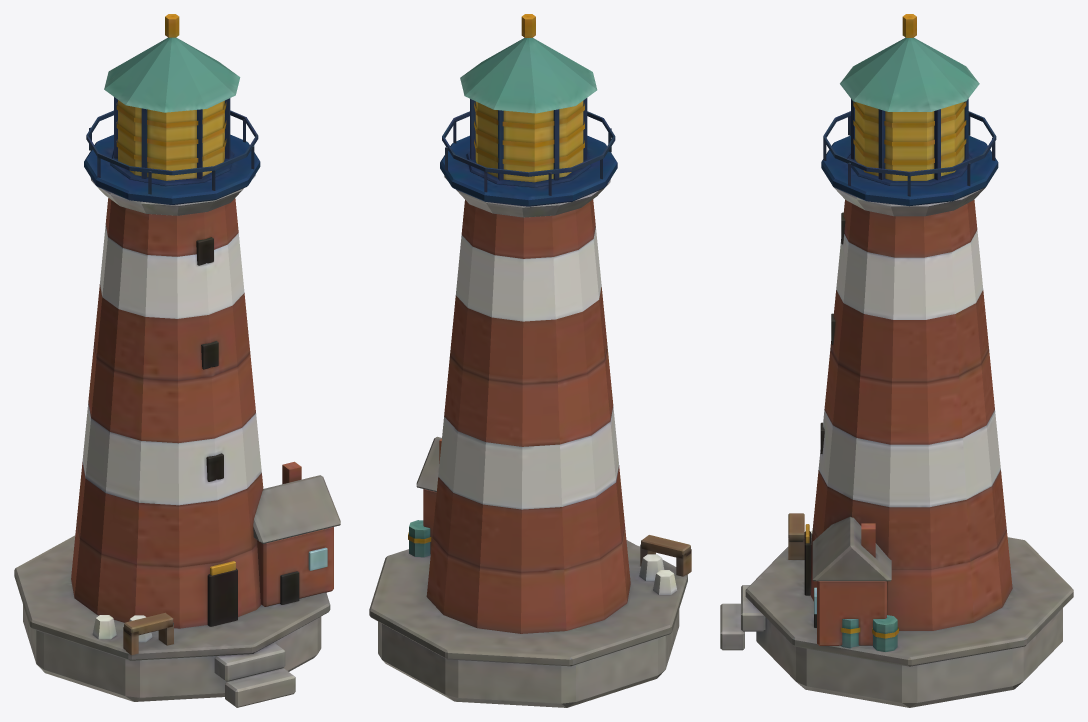
File: lighthouse-10.glb
3 views of the same model, side by side, from view 1: azimuth 30°, elevation 25°; view 2: azimuth 150°, elevation 25°; view 3: azimuth 270°, elevation 25° (orthographic).
Visible parts, largest first — view 1: lighthouse-10; view 2: lighthouse-10; view 3: lighthouse-10.
Part boxes in pixels (bbox=[...]): lighthouse-10: bbox=[14, 14, 340, 707]; lighthouse-10: bbox=[369, 14, 691, 707]; lighthouse-10: bbox=[720, 14, 1073, 707].
Bounding box in the file's own units: 1.59 × 3.37 × 1.72.
1 material, 1 textured.
